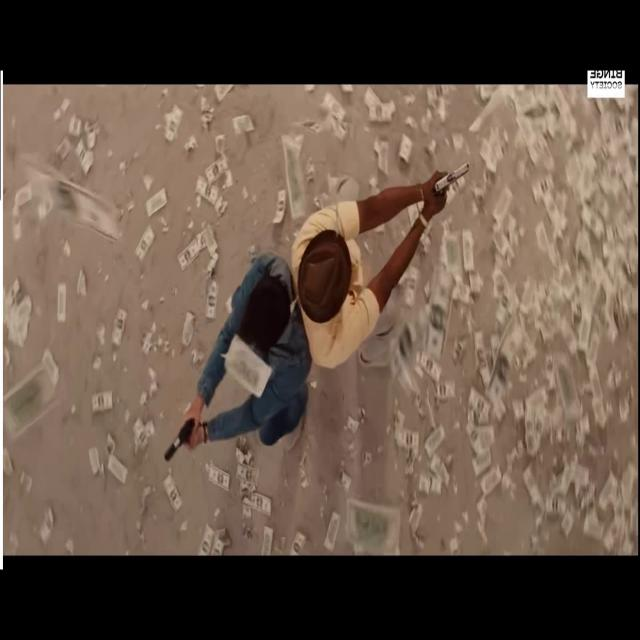weapons: (154, 387, 214, 477), (422, 134, 481, 218)
